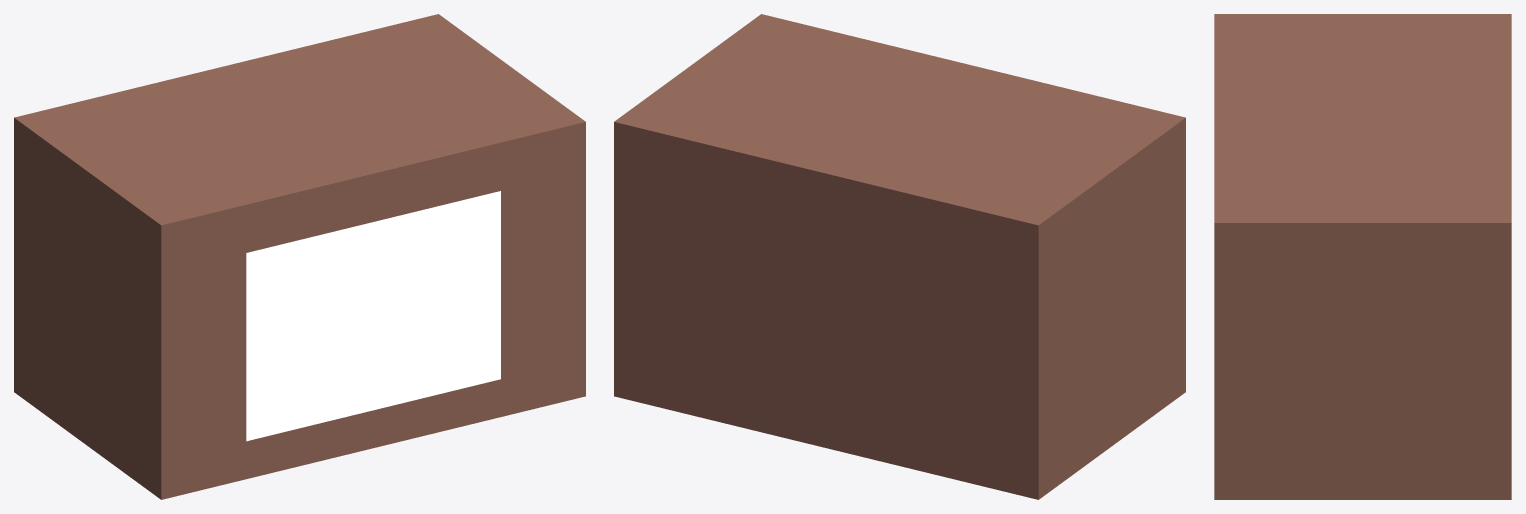
File: building_basic_2.glb
3 renders of one model, left to right at view 1: azimuth 30°, elevation 25°; view 2: azimuth 150°, elevation 25°; view 3: azimuth 270°, elevation 25°, orthographic.
Parts seen in each view (by area): view 1: building2; view 2: building2; view 3: building2.
Part boxes in pixels (x1,y1,x2,y2): building2: (14,14,585,499); building2: (614,14,1185,499); building2: (1214,14,1511,499).
Size of the model in its own units: 6.44 by 3.98 by 3.87.
